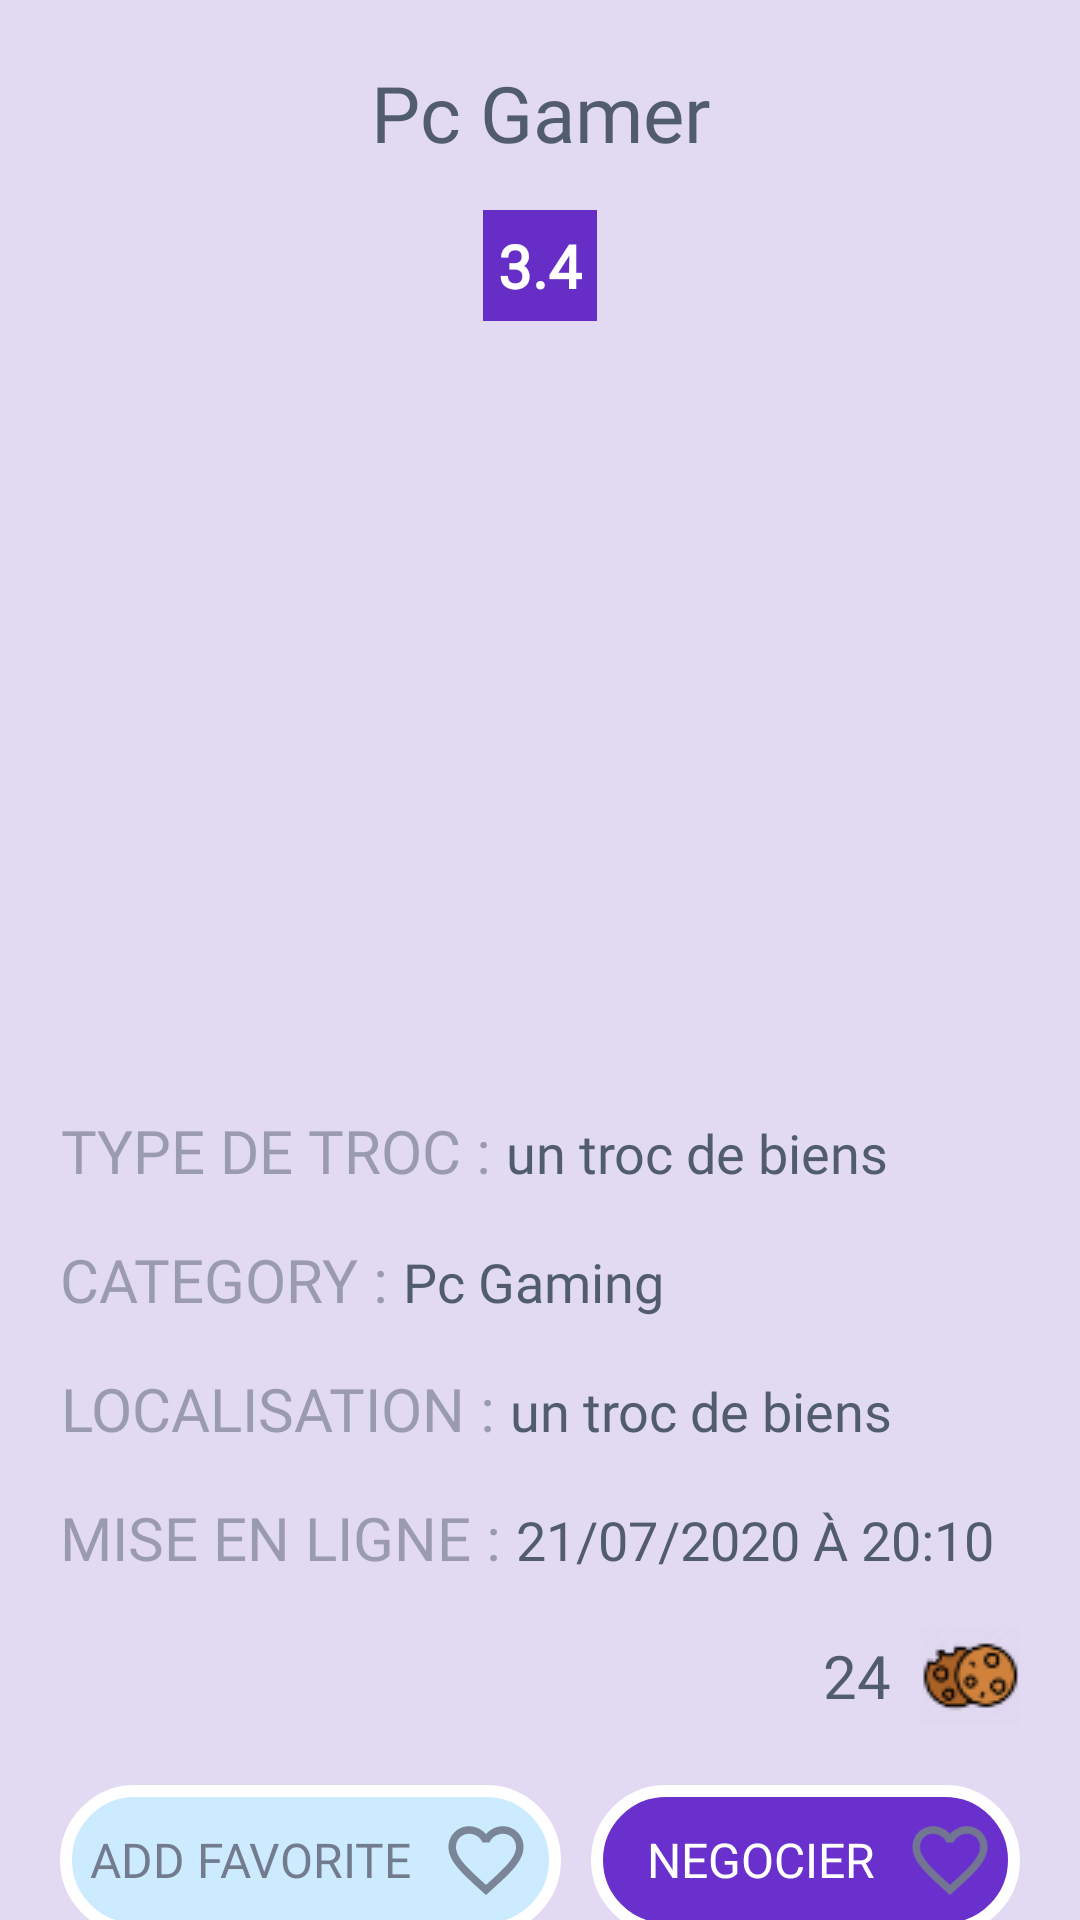

Named icons in this screenshot (1080px×1920px) and their bounding boxes, (x1, y1, x2, y2):
cookie: (923, 1643, 1018, 1710)
favorite border: (448, 1826, 524, 1895), (912, 1826, 988, 1895)
